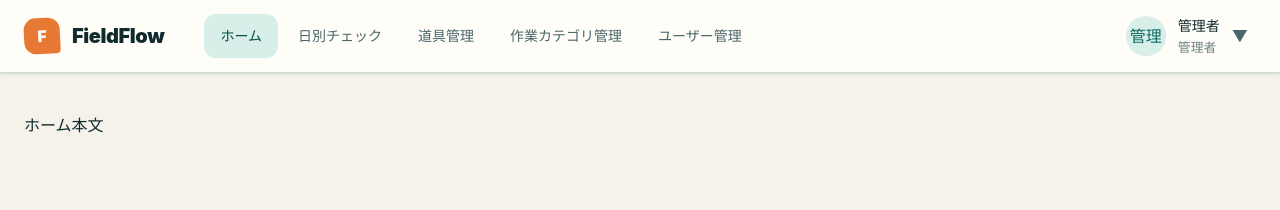
Scenario: AppLayout › ユーザー情報ボタンからアカウント操作を開き、先頭項目へフォーカスする
Click the button with aria-label "アカウントメニューを開く" at (1187, 36), box left=1118, top=10, right=1256, bottom=62
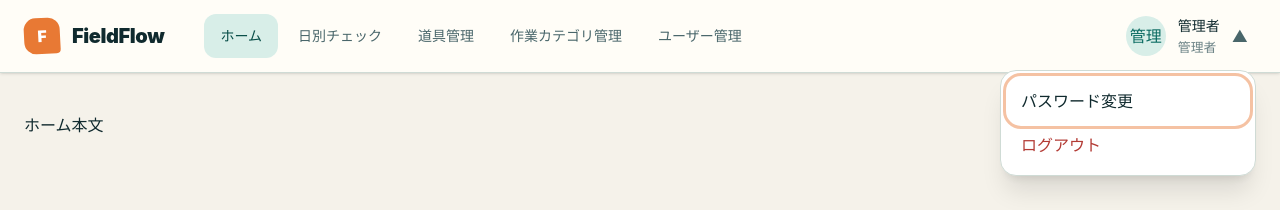
Check: the button named "アカウントメニューを開く" is expanded, box left=1118, top=10, right=1256, bottom=62
Check: the button "ログアウト" is shown, box left=1009, top=123, right=1247, bottom=167
